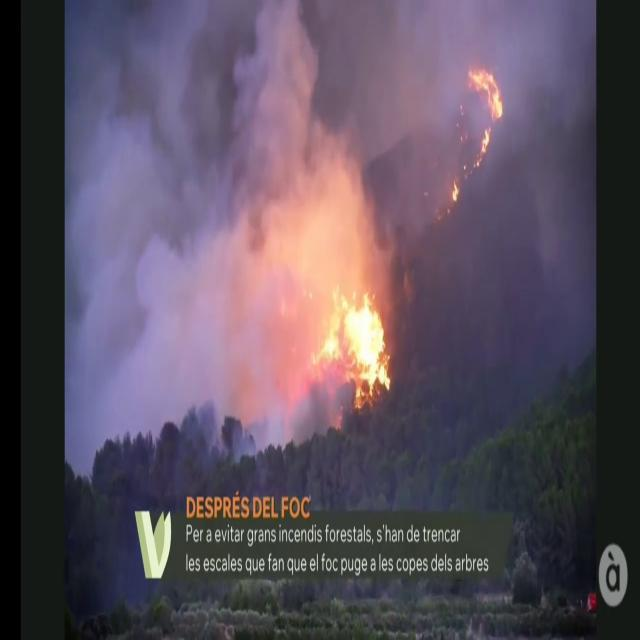Fire: (314, 273, 392, 399), (466, 54, 508, 164)
Smoke: (64, 1, 376, 431)
